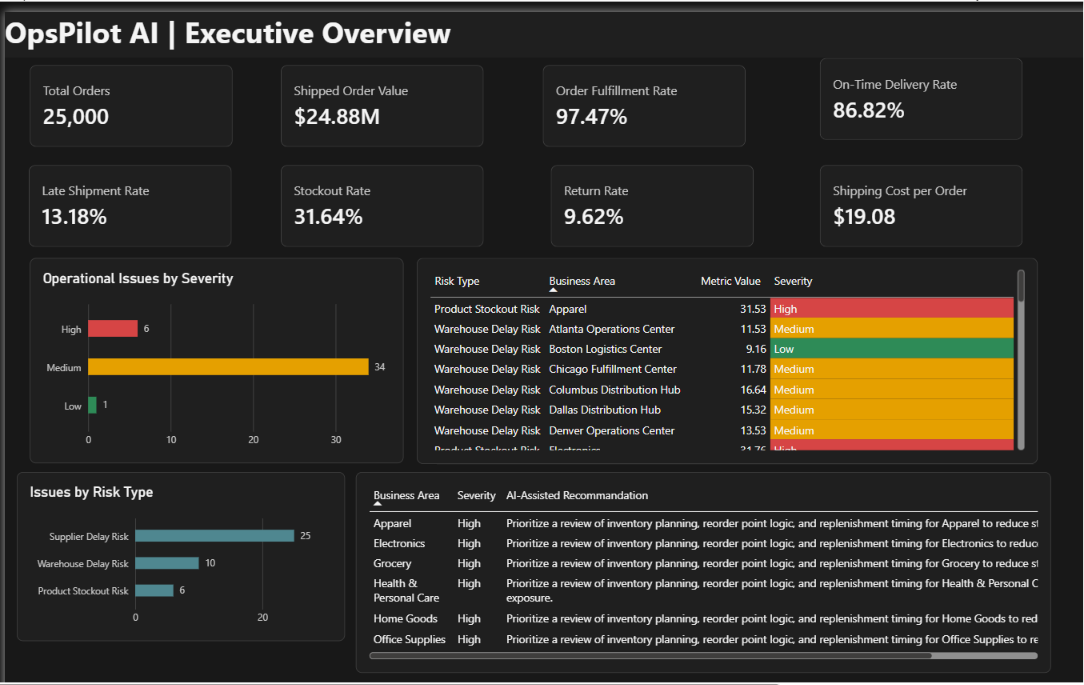

What the dashboard file says about the page in this screenshot:
{"tool":"powerbi","page":{"name":"Executive Overview","canvas":[1920,1080],"ordinal":0},"visuals":[{"type":"cardVisual","title":"Total Orders","fields":{"Data":["ai_business_outputs.Total Orders Display"]},"box":[32.1,67.9,260,105],"z":0},{"type":"cardVisual","title":"Total Orders","fields":{"Data":["ai_business_outputs.Total Revenue"]},"box":[353.8,67.5,260,105],"z":1000},{"type":"cardVisual","title":"Total Orders","fields":{"Data":["ai_business_outputs.Order Fulfillment Rate"]},"box":[690,67.5,260,105],"z":2000},{"type":"cardVisual","title":"Total Orders","fields":{"Data":["ai_business_outputs.On-Time Delivery Rate"]},"box":[1045,58.8,260,105],"z":3000},{"type":"textbox","box":[0,0,1920,58.8],"z":4000},{"type":"cardVisual","fields":{"Data":["ai_business_outputs.Late Shipment Rate"]},"box":[30.8,196.2,260,105],"z":5000},{"type":"cardVisual","fields":{"Data":["ai_business_outputs.Stockout Rate"]},"box":[353.8,196.2,260,105],"z":6000},{"type":"cardVisual","fields":{"Data":["ai_business_outputs.Return Rate"]},"box":[700,196.2,260,105],"z":7000},{"type":"cardVisual","fields":{"Data":["ai_business_outputs.Shipping Cost per Order"]},"box":[1045,196.2,260,105],"z":8000},{"type":"clusteredBarChart","title":"Operational Issues by Severity","fields":{"Category":["ai_business_outputs.severity"],"Y":["ai_business_outputs.Issue Count"]},"box":[32.1,315.4,479.5,262.8],"z":9000},{"type":"tableEx","title":"Priority Operational Risks","fields":{"Values":["ai_business_outputs.issue_type","ai_business_outputs.business_area","ai_business_outputs.metric_value","ai_business_outputs.severity"]},"box":[528.8,315,796.2,263.8],"z":10000},{"type":"clusteredBarChart","title":"Issues by Risk Type","fields":{"Category":["ai_business_outputs.issue_type"],"Y":["ai_business_outputs.Issue Count"]},"box":[15.4,589.7,420.5,216.7],"z":11000},{"type":"tableEx","title":"Priority AI-Assisted Recommendations","fields":{"Values":["ai_business_outputs.business_area","ai_business_outputs.severity","ai_business_outputs.executive_recommendation"]},"box":[450,590,891.2,257.5],"z":12000}]}

Visuals, with their boxes on the page's 1920x1080 design canvas (x1, y1, x2, y2). These are canvas units, not pixel positions in the 1084x685 screenshot, which may show the page scaled, cropped or inside an application window:
"Total Orders" cardVisual: <region>32, 68, 292, 173</region>
"Total Orders" cardVisual: <region>354, 68, 614, 172</region>
"Total Orders" cardVisual: <region>690, 68, 950, 172</region>
"Total Orders" cardVisual: <region>1045, 59, 1305, 164</region>
textbox: <region>0, 0, 1920, 59</region>
cardVisual - ai_business_outputs.Late Shipment Rate: <region>31, 196, 291, 301</region>
cardVisual - ai_business_outputs.Stockout Rate: <region>354, 196, 614, 301</region>
cardVisual - ai_business_outputs.Return Rate: <region>700, 196, 960, 301</region>
cardVisual - ai_business_outputs.Shipping Cost per Order: <region>1045, 196, 1305, 301</region>
"Operational Issues by Severity" clusteredBarChart: <region>32, 315, 512, 578</region>
"Priority Operational Risks" tableEx: <region>529, 315, 1325, 579</region>
"Issues by Risk Type" clusteredBarChart: <region>15, 590, 436, 806</region>
"Priority AI-Assisted Recommendations" tableEx: <region>450, 590, 1341, 848</region>
